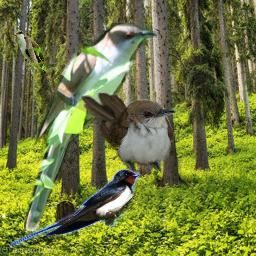Cuckoo: (24, 23, 160, 231), (81, 92, 177, 177), (11, 30, 53, 81)
Swallow: (9, 169, 140, 247)
